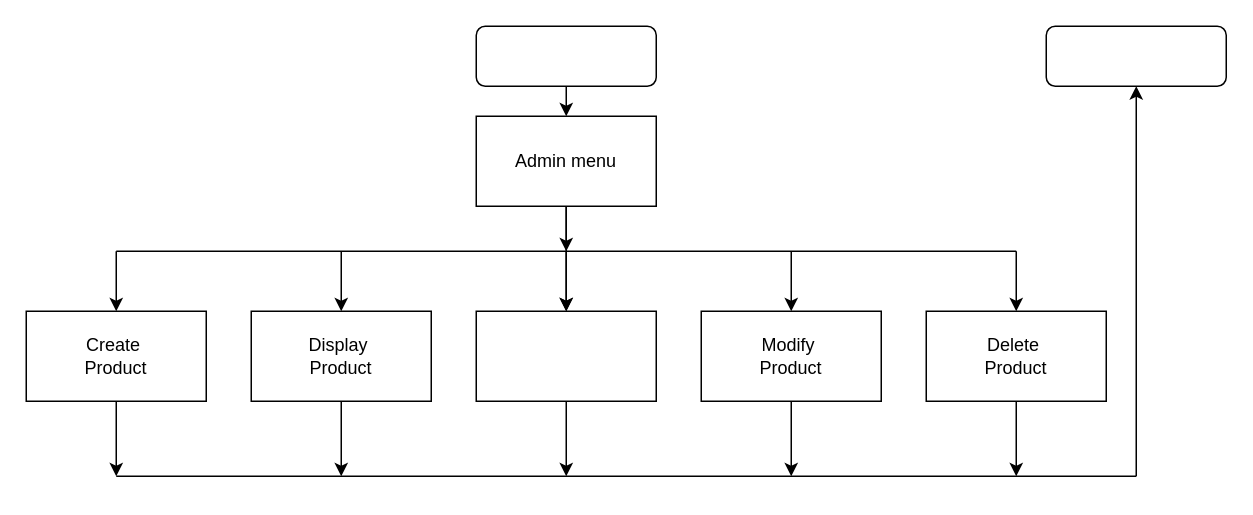
This 1253x515 diagram has some shape labels left out. The centre of each missing label's shape, as x and y in pixels:
"Admin" goes at point 565,55.
"Search Product" goes at point 565,355.
"Start" goes at point 1135,55.
